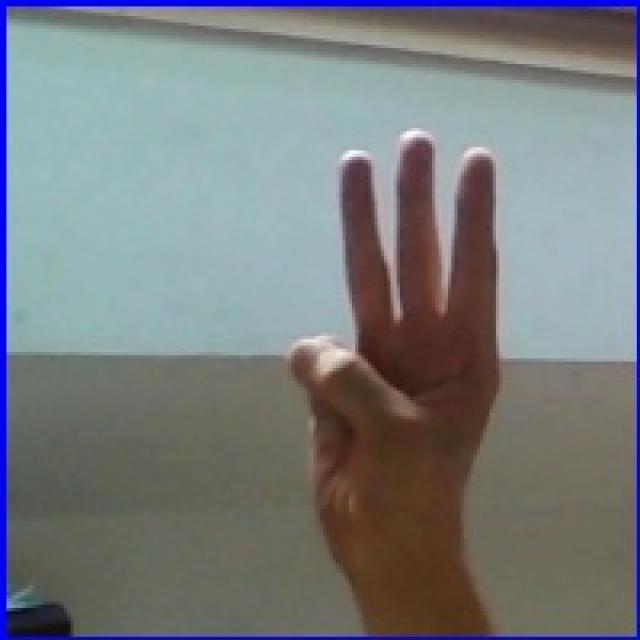Letra-W: (243, 111, 564, 586)
